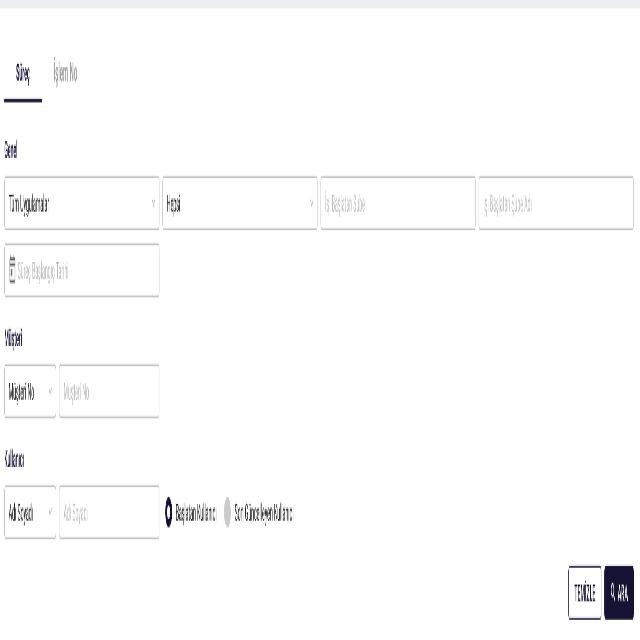QLabel: (52, 55, 78, 90), (14, 56, 32, 88), (574, 580, 596, 606), (3, 445, 24, 472), (2, 132, 19, 165), (3, 323, 22, 352), (617, 584, 628, 604)
VBtn: (568, 562, 602, 622), (604, 562, 634, 622)
VCard: (0, 0, 640, 640)
VCombobox: (4, 360, 56, 422), (4, 482, 56, 544)
VIcon: (610, 582, 616, 605)
VInlineDatepicker: (3, 240, 160, 300)
VRadio: (221, 487, 296, 535), (164, 490, 217, 534)
VTab: (4, 36, 44, 109), (47, 34, 84, 107)
VTabs: (2, 19, 636, 119)
VTextField: (3, 172, 160, 233), (162, 172, 318, 233), (320, 172, 476, 232), (478, 174, 634, 232), (58, 361, 160, 422), (59, 482, 160, 541)
